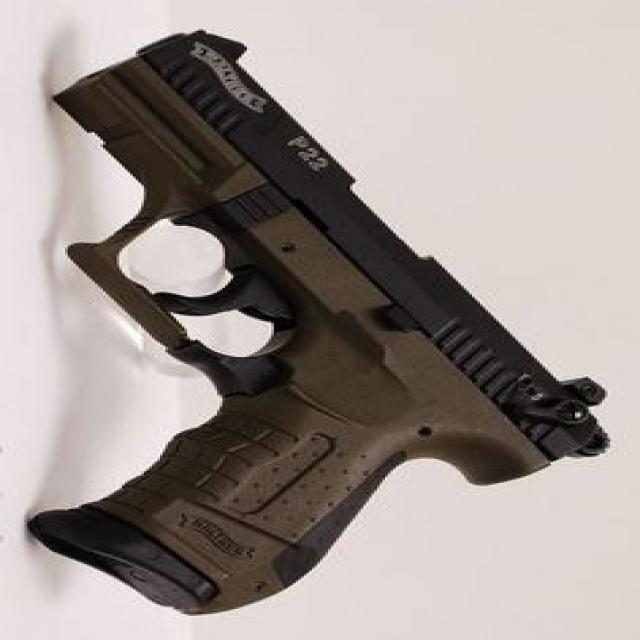semi automatic: (16, 19, 618, 626)
